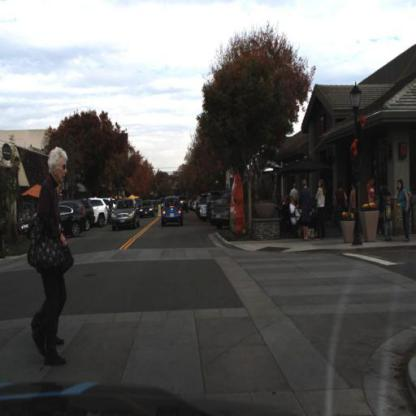car: (19, 204, 85, 244), (112, 197, 141, 233), (161, 195, 186, 231), (80, 197, 96, 233), (207, 190, 222, 226), (93, 197, 109, 228), (214, 195, 230, 226), (138, 198, 159, 221), (201, 198, 206, 222)
pedestrian: (27, 147, 76, 373), (298, 179, 316, 246), (395, 178, 413, 242), (334, 184, 351, 241), (366, 175, 379, 233), (289, 197, 307, 237), (382, 196, 396, 243), (350, 181, 361, 238), (316, 178, 326, 238), (290, 181, 301, 207), (196, 194, 200, 218)
